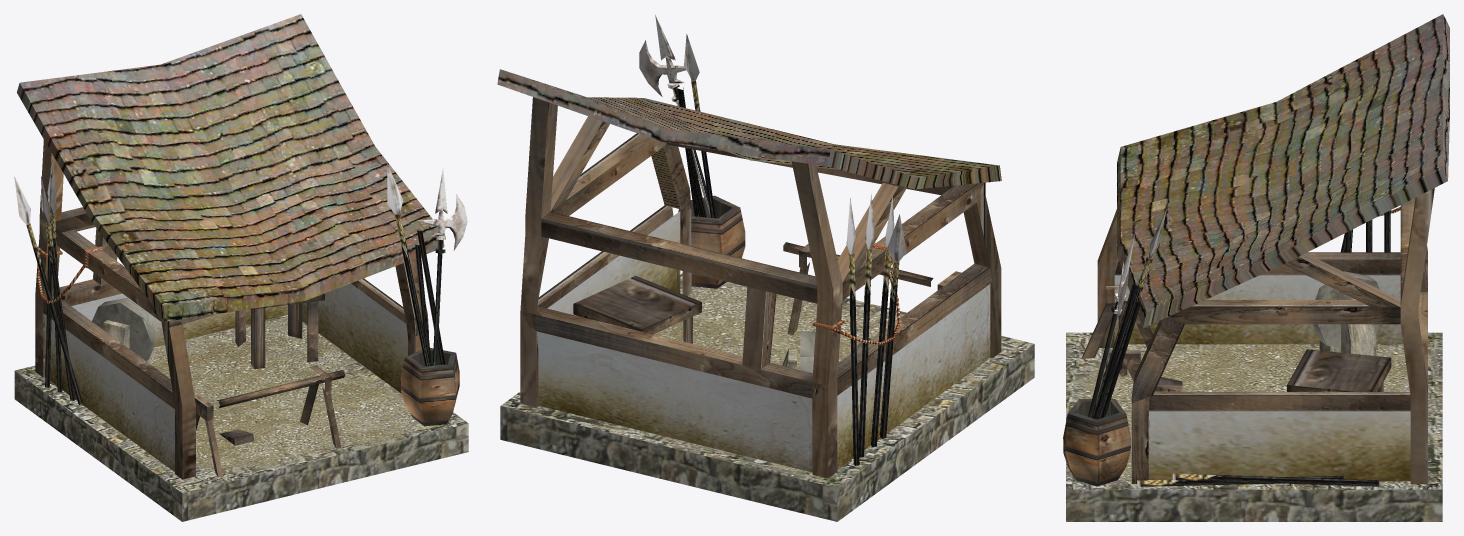
The model's file is building_poleturner_hut.glb.
The picture shows the model from 3 angles, left to right: view 1: azimuth 30°, elevation 25°; view 2: azimuth 150°, elevation 25°; view 3: azimuth 270°, elevation 25°; orthographic projection. The views are drawn at different scales.
Parts seen in each view (by area): view 1: building_poleturner_hut; view 2: building_poleturner_hut; view 3: building_poleturner_hut.
Boxes of the visible parts, box(x1,y1,x2,y2) form: building_poleturner_hut: box(14, 14, 468, 521); building_poleturner_hut: box(497, 14, 1034, 521); building_poleturner_hut: box(1063, 14, 1449, 521).
Size of the model in its own units: 5.04 by 4.49 by 4.45.
9 materials, 9 textured.
